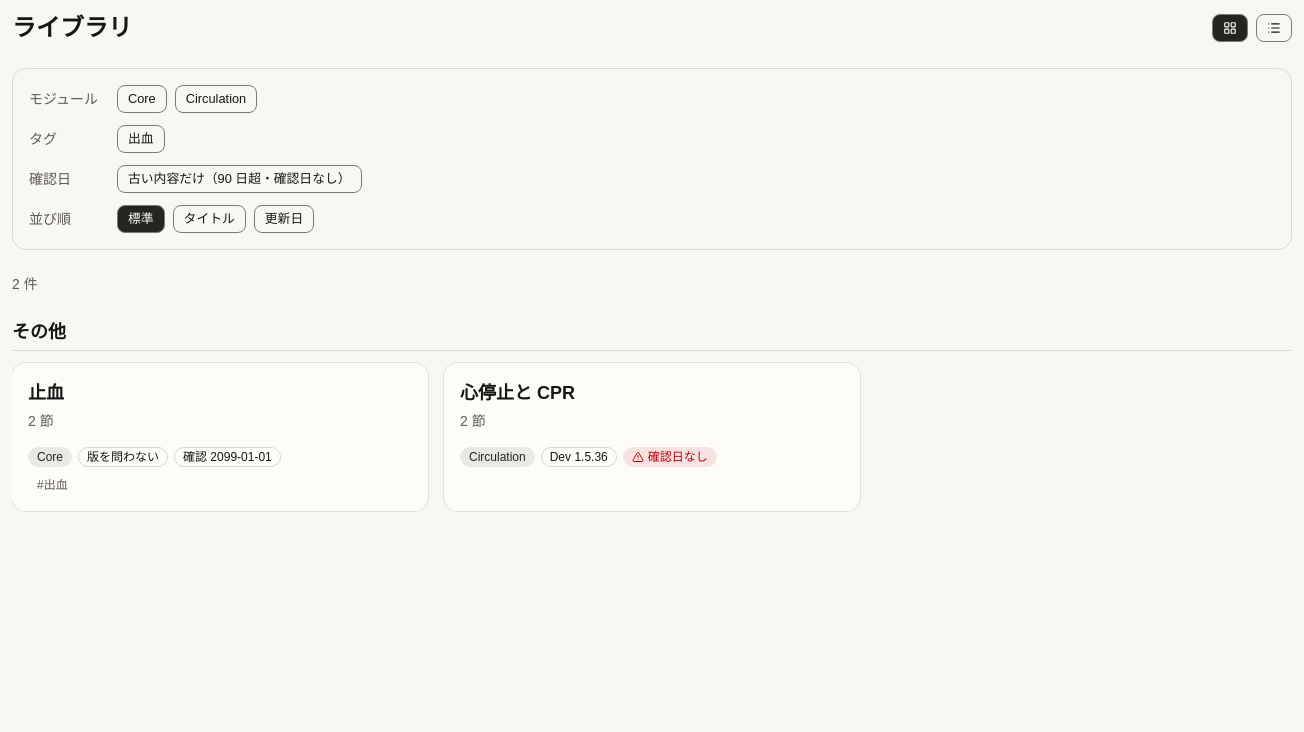
Test: LibraryPage › 一覧を出し、モジュールで絞り込み、文書へのリンクを張る
The width and height of the screenshot is (1304, 732).
Expected: the heading "止血" is shown, [28, 383, 64, 403]
Expected: the text "2 件" is shown, [12, 276, 38, 292]
Click the button "Circulation": coordinates (216, 99) [175, 85, 257, 113]
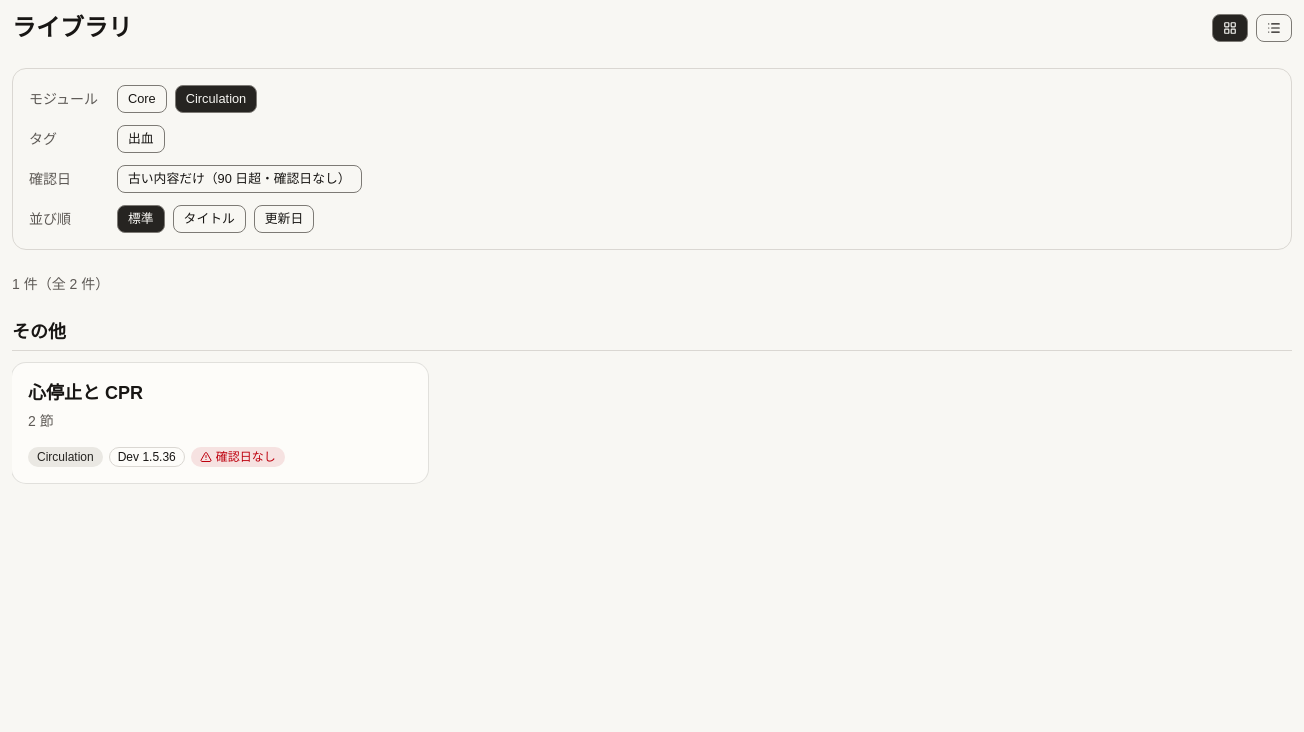
Expected: the link "止血" is gone
Expected: the text "1 件（全 2 件）" is shown, [12, 276, 109, 292]
